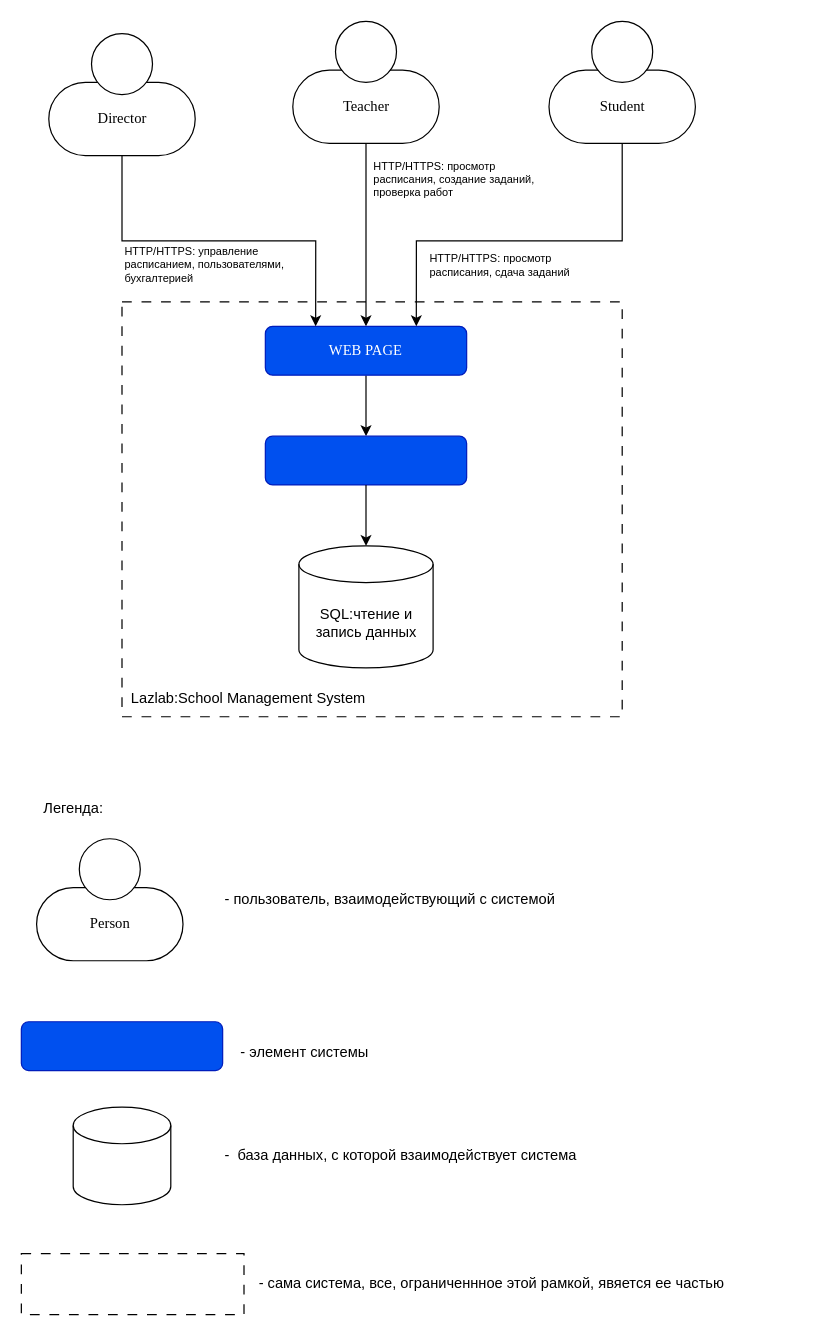
The diagram is 826 pixels wide and 1336 high, and some of its shapes have lost their labels. Here are the shapes that lost their labels. From the top down, the centre of each, then its label:
At point 365,460: "Flask app".
At point 121,1046: "Element".
At point 121,1155: "database".
